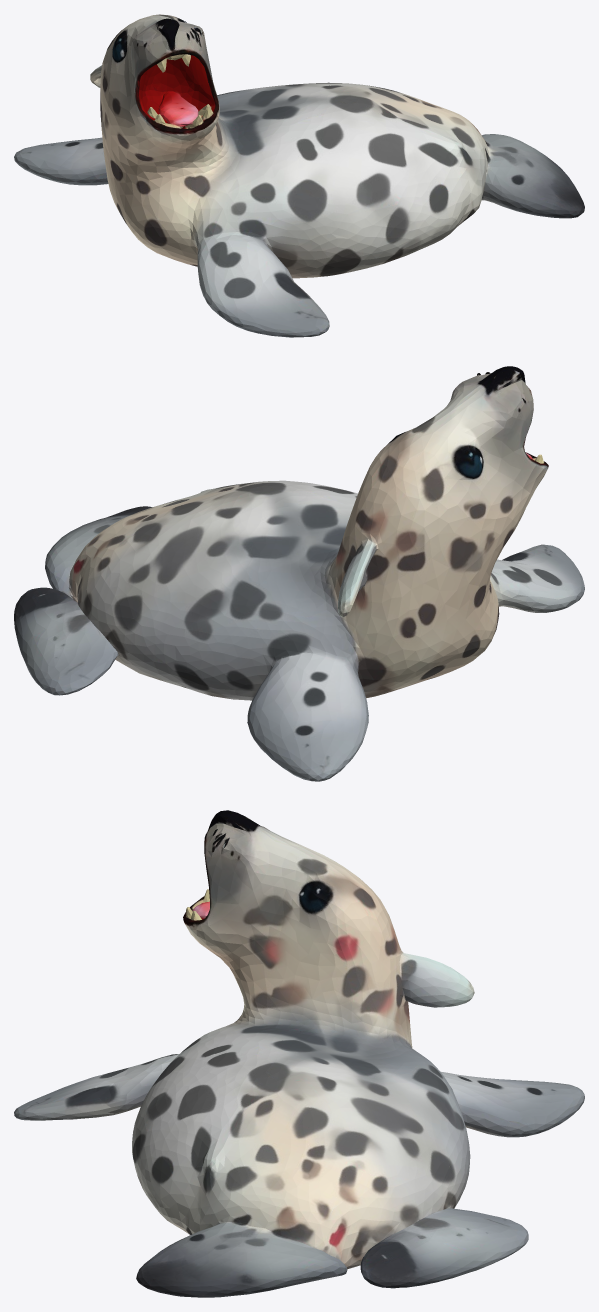
File: seal.glb
3 renders of one model, top to bottom at view 1: azimuth 30°, elevation 25°; view 2: azimuth 150°, elevation 25°; view 3: azimuth 270°, elevation 25°, orthographic. The views are drawn at different scales.
Parts seen in each view (by area): view 1: geometry_0; view 2: geometry_0; view 3: geometry_0.
Boxes of the visible parts, x1=… form: geometry_0: x1=14, y1=14, x2=584, y2=337; geometry_0: x1=14, y1=366, x2=584, y2=781; geometry_0: x1=14, y1=810, x2=584, y2=1297.
Size of the model in its own units: 0.9354 by 0.5609 by 1.
1 material, 1 textured.
